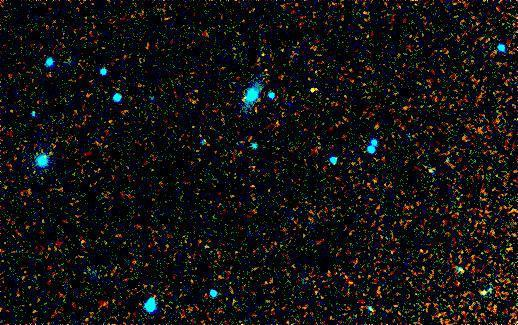star: (297, 76, 327, 106)
